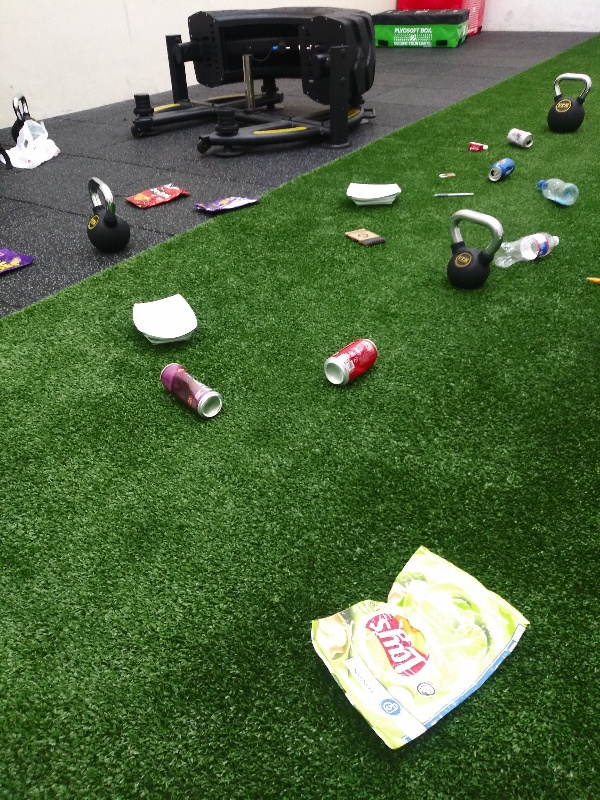bag: (306, 545, 536, 760), (119, 179, 191, 213), (1, 243, 39, 282), (194, 192, 257, 215)
bottle: (489, 228, 566, 270), (534, 173, 581, 209)
can: (156, 359, 224, 422), (319, 331, 379, 395), (483, 154, 519, 187), (504, 125, 537, 155)
plate: (125, 292, 205, 352), (342, 178, 408, 206)
